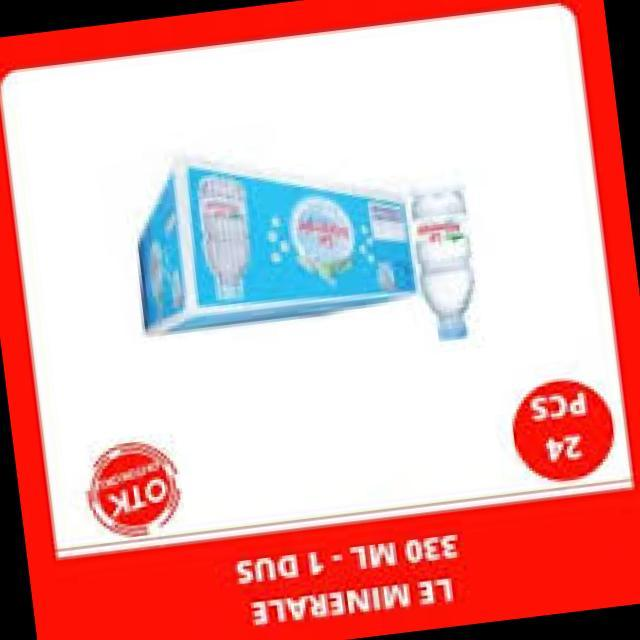good: (389, 184, 489, 360)
